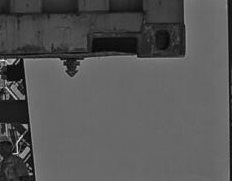twist_lock_2: (57, 53, 86, 81)
